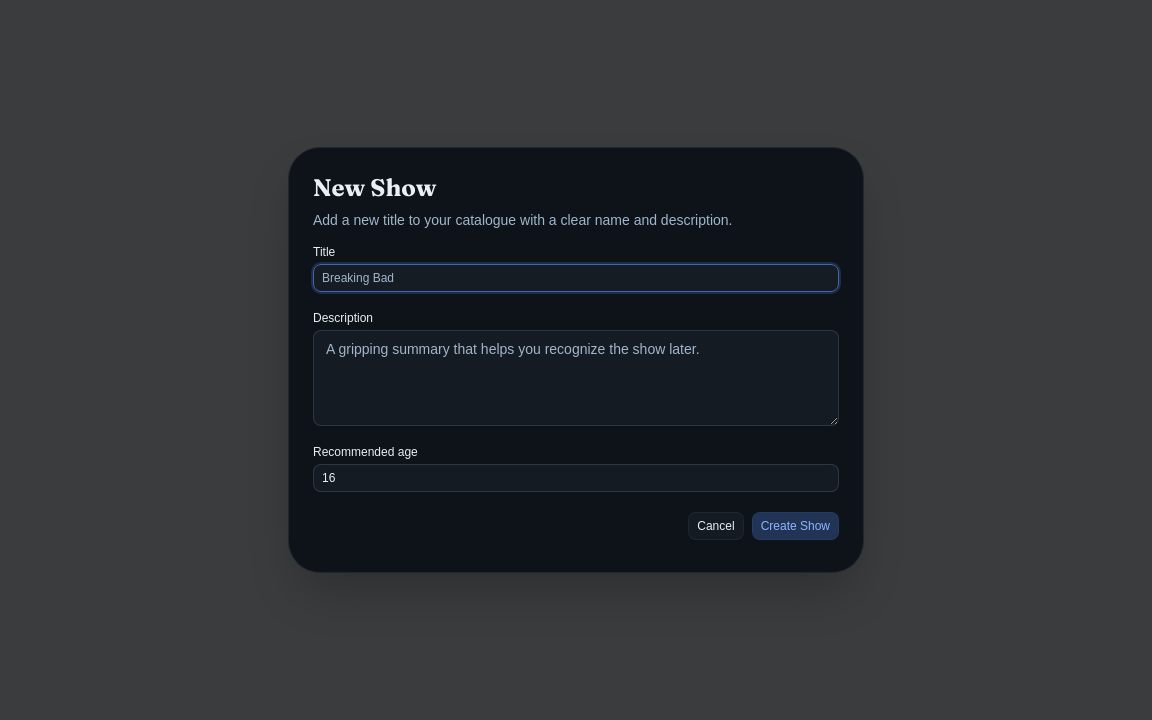
Test: ShowFormDialog › shows inline errors on an empty submit
Click the button "Create Show". click: x=795, y=526
box: [752,512,839,540]
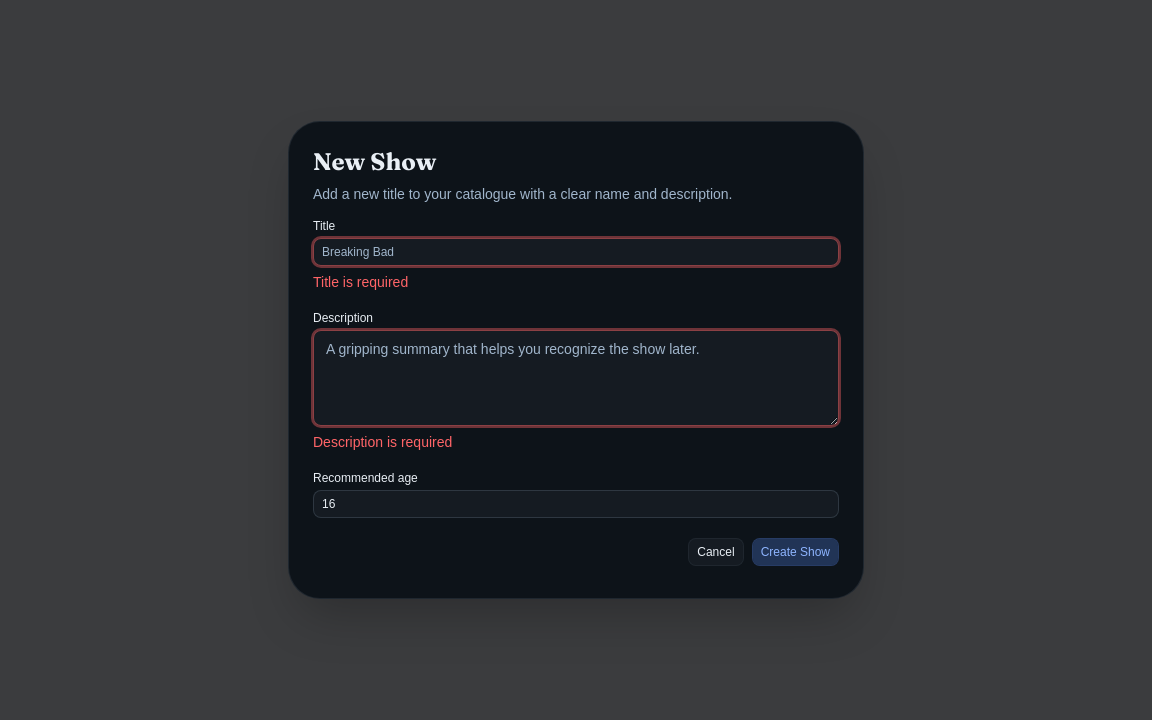
Expected: the number field labelled "Recommended age" holds "16", [313,490,839,518]
Expected: the text "Title is required" is shown, [313,274,408,290]
Expected: the text "Description is required" is shown, [313,434,452,450]
